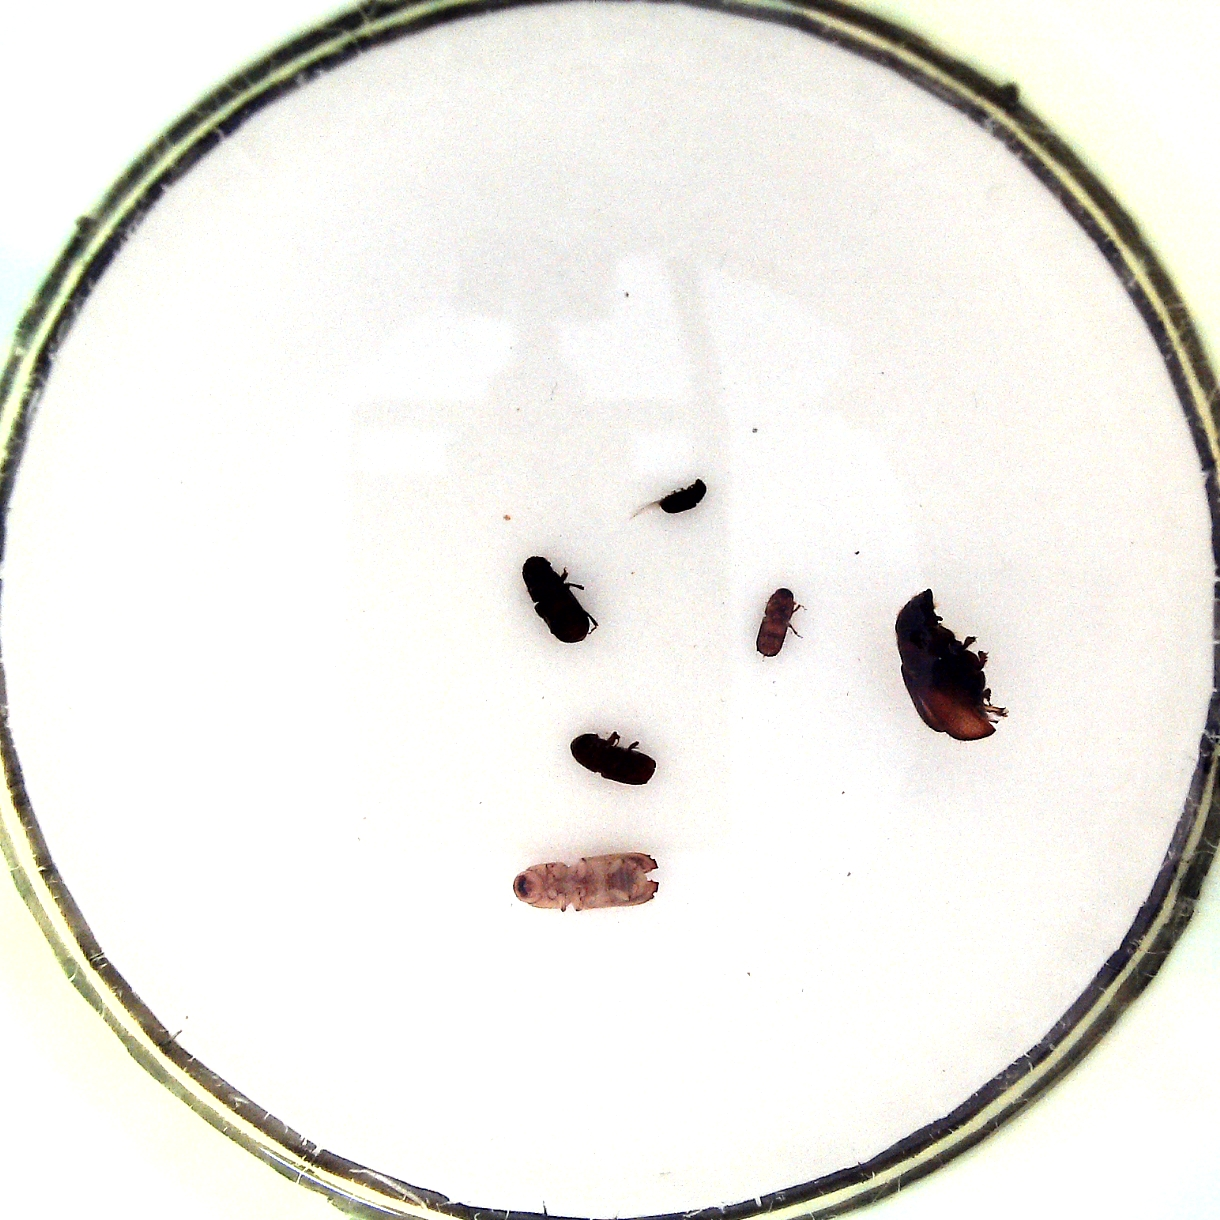Boerner: (509, 854, 661, 912)
Leconte: (892, 589, 1008, 740)
Linnaeus: (566, 732, 659, 787)
acuminatus: (752, 588, 809, 659)
armandi: (521, 554, 606, 642)
coleoptera: (641, 479, 711, 520)
